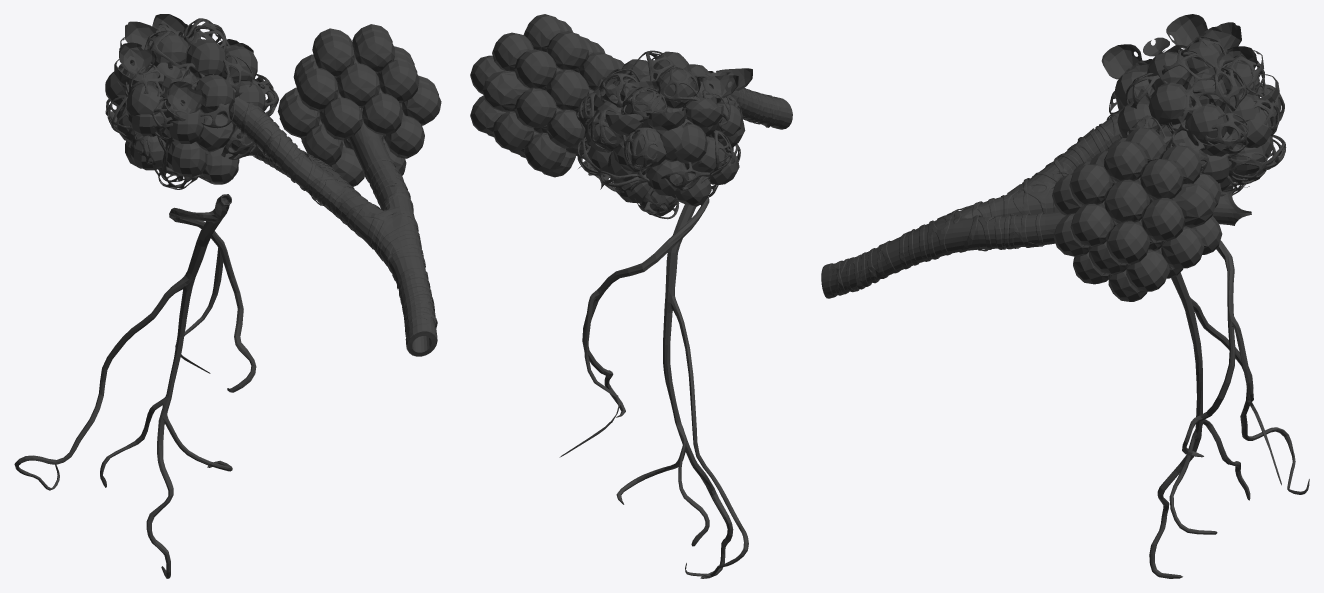
The model's file is sharedassets60.glb.
The picture shows the model from 3 angles, left to right: view 1: azimuth 30°, elevation 25°; view 2: azimuth 150°, elevation 25°; view 3: azimuth 270°, elevation 25°; orthographic projection. The views are drawn at different scales.
Visible parts, largest first — view 1: 0004_Alveolar sac__302397, 0041_Pulmonary vein__302436, 0003_Bronchiolar smooth muscle__302395, 0000_Terminal bronchiole__302392, 0040_Pulmonary capillary beds__302435, 0038_Alveolar cavitites__302540, 0039_Alveolar sac cross section__302432, 0042_Pulmonary capillary beds_middle_302437, 0001_Respiratory bronchiole__302393, 0033_Alveolus_2_302427, 0026_Alveolus_9_302420, 0032_Alveolus_3_302426 (+10 smaller); view 2: 0004_Alveolar sac__302397, 0041_Pulmonary vein__302436, 0039_Alveolar sac cross section__302432, 0040_Pulmonary capillary beds__302435, 0042_Pulmonary capillary beds_middle_302437, 0038_Alveolar cavitites__302540, 0008_Alveolus_27_302402, 0007_Alveolus_28_302401, 0006_Alveolus_29_302400, 0016_Alveolus_19_302410, 0017_alveolus_18_302411, 0003_Bronchiolar smooth muscle__302395 (+9 smaller); view 3: 0004_Alveolar sac__302397, 0041_Pulmonary vein__302436, 0003_Bronchiolar smooth muscle__302395, 0040_Pulmonary capillary beds__302435, 0000_Terminal bronchiole__302392, 0038_Alveolar cavitites__302540, 0042_Pulmonary capillary beds_middle_302437, 0001_Respiratory bronchiole__302393, 0039_Alveolar sac cross section__302432, 0019_Alveolus_16_302413, 0010_Alveolus_25_302404, 0011_Alveolus_24_302405 (+16 smaller).
Boxes of the visible parts, x1=… form: 0004_Alveolar sac__302397: x1=116, y1=31, x2=265, y2=183; 0041_Pulmonary vein__302436: x1=14, y1=194, x2=256, y2=578; 0003_Bronchiolar smooth muscle__302395: x1=236, y1=102, x2=437, y2=356; 0000_Terminal bronchiole__302392: x1=294, y1=156, x2=436, y2=356; 0040_Pulmonary capillary beds__302435: x1=105, y1=18, x2=277, y2=189; 0038_Alveolar cavitites__302540: x1=119, y1=14, x2=253, y2=113; 0039_Alveolar sac cross section__302432: x1=105, y1=37, x2=232, y2=154; 0042_Pulmonary capillary beds_middle_302437: x1=106, y1=20, x2=278, y2=189; 0001_Respiratory bronchiole__302393: x1=240, y1=108, x2=409, y2=205; 0033_Alveolus_2_302427: x1=362, y1=93, x2=402, y2=135; 0026_Alveolus_9_302420: x1=337, y1=63, x2=379, y2=107; 0032_Alveolus_3_302426: x1=322, y1=97, x2=362, y2=140; 0004_Alveolar sac__302397: x1=583, y1=51, x2=745, y2=215; 0041_Pulmonary vein__302436: x1=559, y1=198, x2=748, y2=578; 0039_Alveolar sac cross section__302432: x1=581, y1=98, x2=742, y2=191; 0040_Pulmonary capillary beds__302435: x1=576, y1=50, x2=741, y2=219; 0042_Pulmonary capillary beds_middle_302437: x1=576, y1=51, x2=742, y2=217; 0038_Alveolar cavitites__302540: x1=597, y1=68, x2=752, y2=102; 0008_Alveolus_27_302402: x1=514, y1=49, x2=556, y2=88; 0007_Alveolus_28_302401: x1=514, y1=88, x2=556, y2=127; 0006_Alveolus_29_302400: x1=482, y1=71, x2=529, y2=112; 0016_Alveolus_19_302410: x1=546, y1=70, x2=589, y2=110; 0017_alveolus_18_302411: x1=546, y1=31, x2=588, y2=70; 0003_Bronchiolar smooth muscle__302395: x1=730, y1=87, x2=792, y2=129; 0004_Alveolar sac__302397: x1=1114, y1=41, x2=1277, y2=190; 0041_Pulmonary vein__302436: x1=1149, y1=240, x2=1309, y2=578; 0003_Bronchiolar smooth muscle__302395: x1=821, y1=113, x2=1122, y2=298; 0040_Pulmonary capillary beds__302435: x1=1109, y1=37, x2=1284, y2=196; 0000_Terminal bronchiole__302392: x1=830, y1=164, x2=1067, y2=295; 0038_Alveolar cavitites__302540: x1=1101, y1=14, x2=1257, y2=124; 0042_Pulmonary capillary beds_middle_302437: x1=1109, y1=36, x2=1286, y2=195; 0001_Respiratory bronchiole__302393: x1=978, y1=118, x2=1213, y2=248; 0039_Alveolar sac cross section__302432: x1=1177, y1=50, x2=1281, y2=183; 0019_Alveolus_16_302413: x1=1104, y1=179, x2=1149, y2=223; 0010_Alveolus_25_302404: x1=1141, y1=198, x2=1184, y2=241; 0011_Alveolus_24_302405: x1=1106, y1=221, x2=1149, y2=264.
Bounding box in the file's own units: 829 × 1213 × 974.
Materials: 1 (1 with a texture image).
